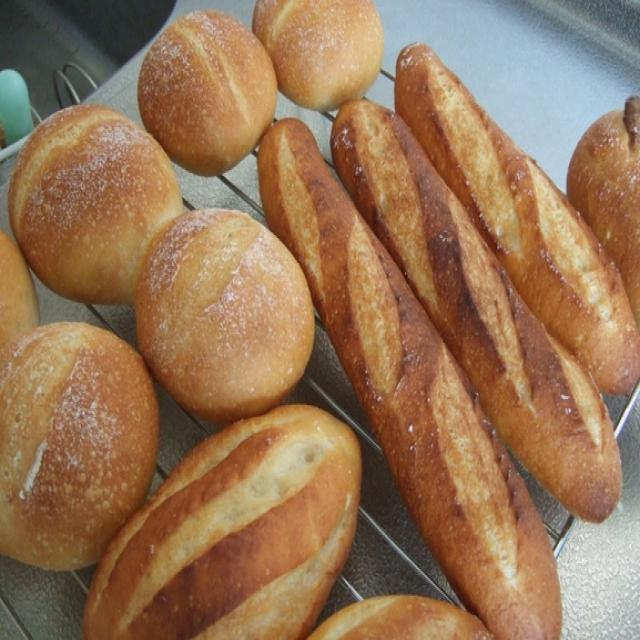面包点心: (3, 2, 628, 625)
